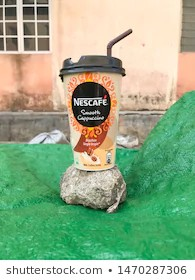nescafe-can: (57, 47, 132, 172)
